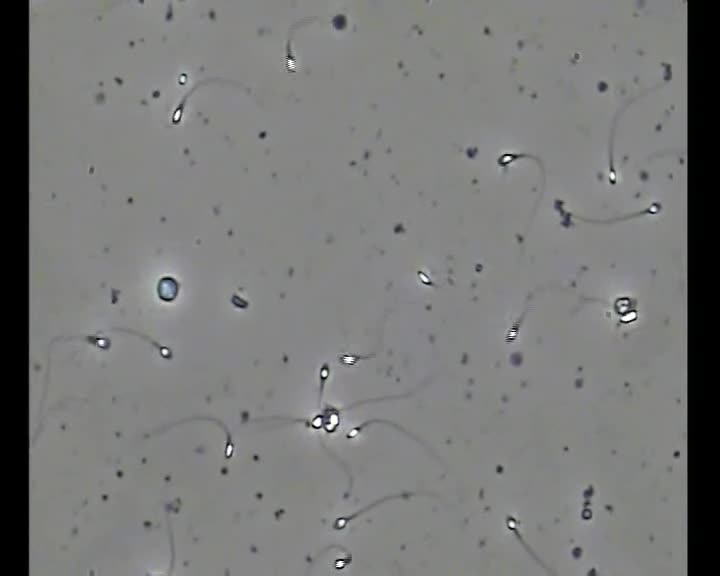spermhead: (157, 275, 179, 302), (497, 152, 527, 167), (613, 296, 636, 315), (323, 407, 339, 433), (87, 334, 110, 350), (285, 40, 296, 71), (230, 292, 248, 309), (618, 310, 638, 324), (334, 553, 351, 569), (416, 269, 432, 286), (331, 13, 347, 30), (505, 323, 519, 342), (171, 103, 183, 125), (340, 353, 360, 365), (398, 488, 416, 501), (224, 436, 234, 458), (505, 515, 518, 531), (158, 345, 172, 359), (646, 201, 661, 214), (310, 414, 323, 429), (333, 516, 348, 529), (346, 426, 361, 439), (561, 211, 573, 227), (177, 71, 189, 86), (581, 501, 591, 519), (319, 363, 329, 380), (553, 198, 564, 212), (607, 168, 617, 183), (240, 409, 250, 422), (342, 488, 351, 500), (301, 418, 312, 427)
